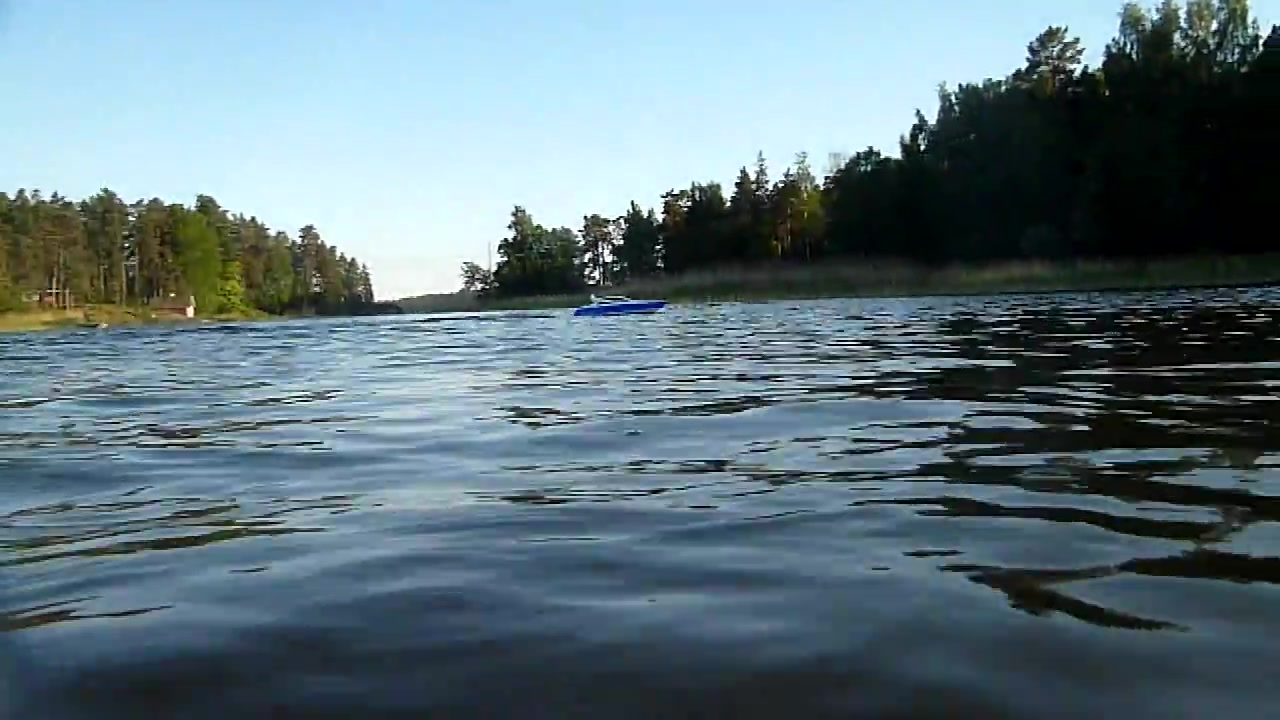boat: (571, 290, 669, 316)
